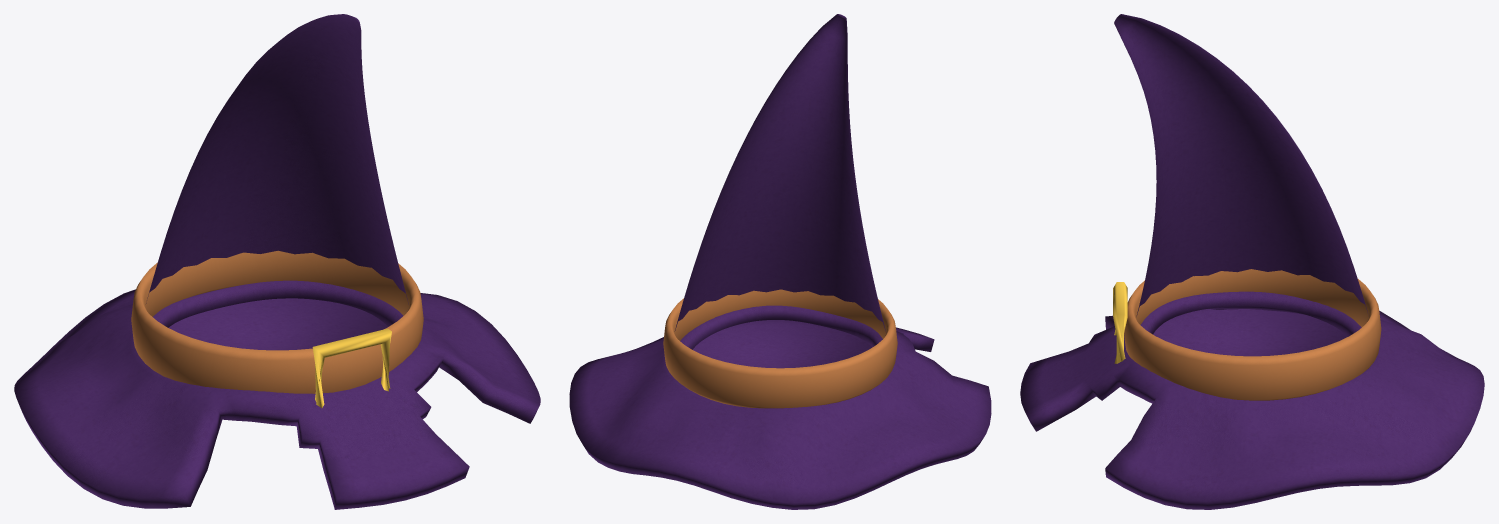
The model's file is witch.glb.
3 renders of one model, left to right at view 1: azimuth 30°, elevation 25°; view 2: azimuth 150°, elevation 25°; view 3: azimuth 270°, elevation 25°, orthographic. The views are drawn at different scales.
Visible parts, largest first — view 1: Witch; view 2: Witch; view 3: Witch.
Part boxes in pixels (box(x1,y1,x2,y2)): Witch: box(14, 14, 540, 509); Witch: box(569, 14, 991, 509); Witch: box(1020, 14, 1484, 509).
Bounding box in the file's own units: 0.38 × 0.3643 × 0.38.
Materials: 3 (2 with a texture image).
